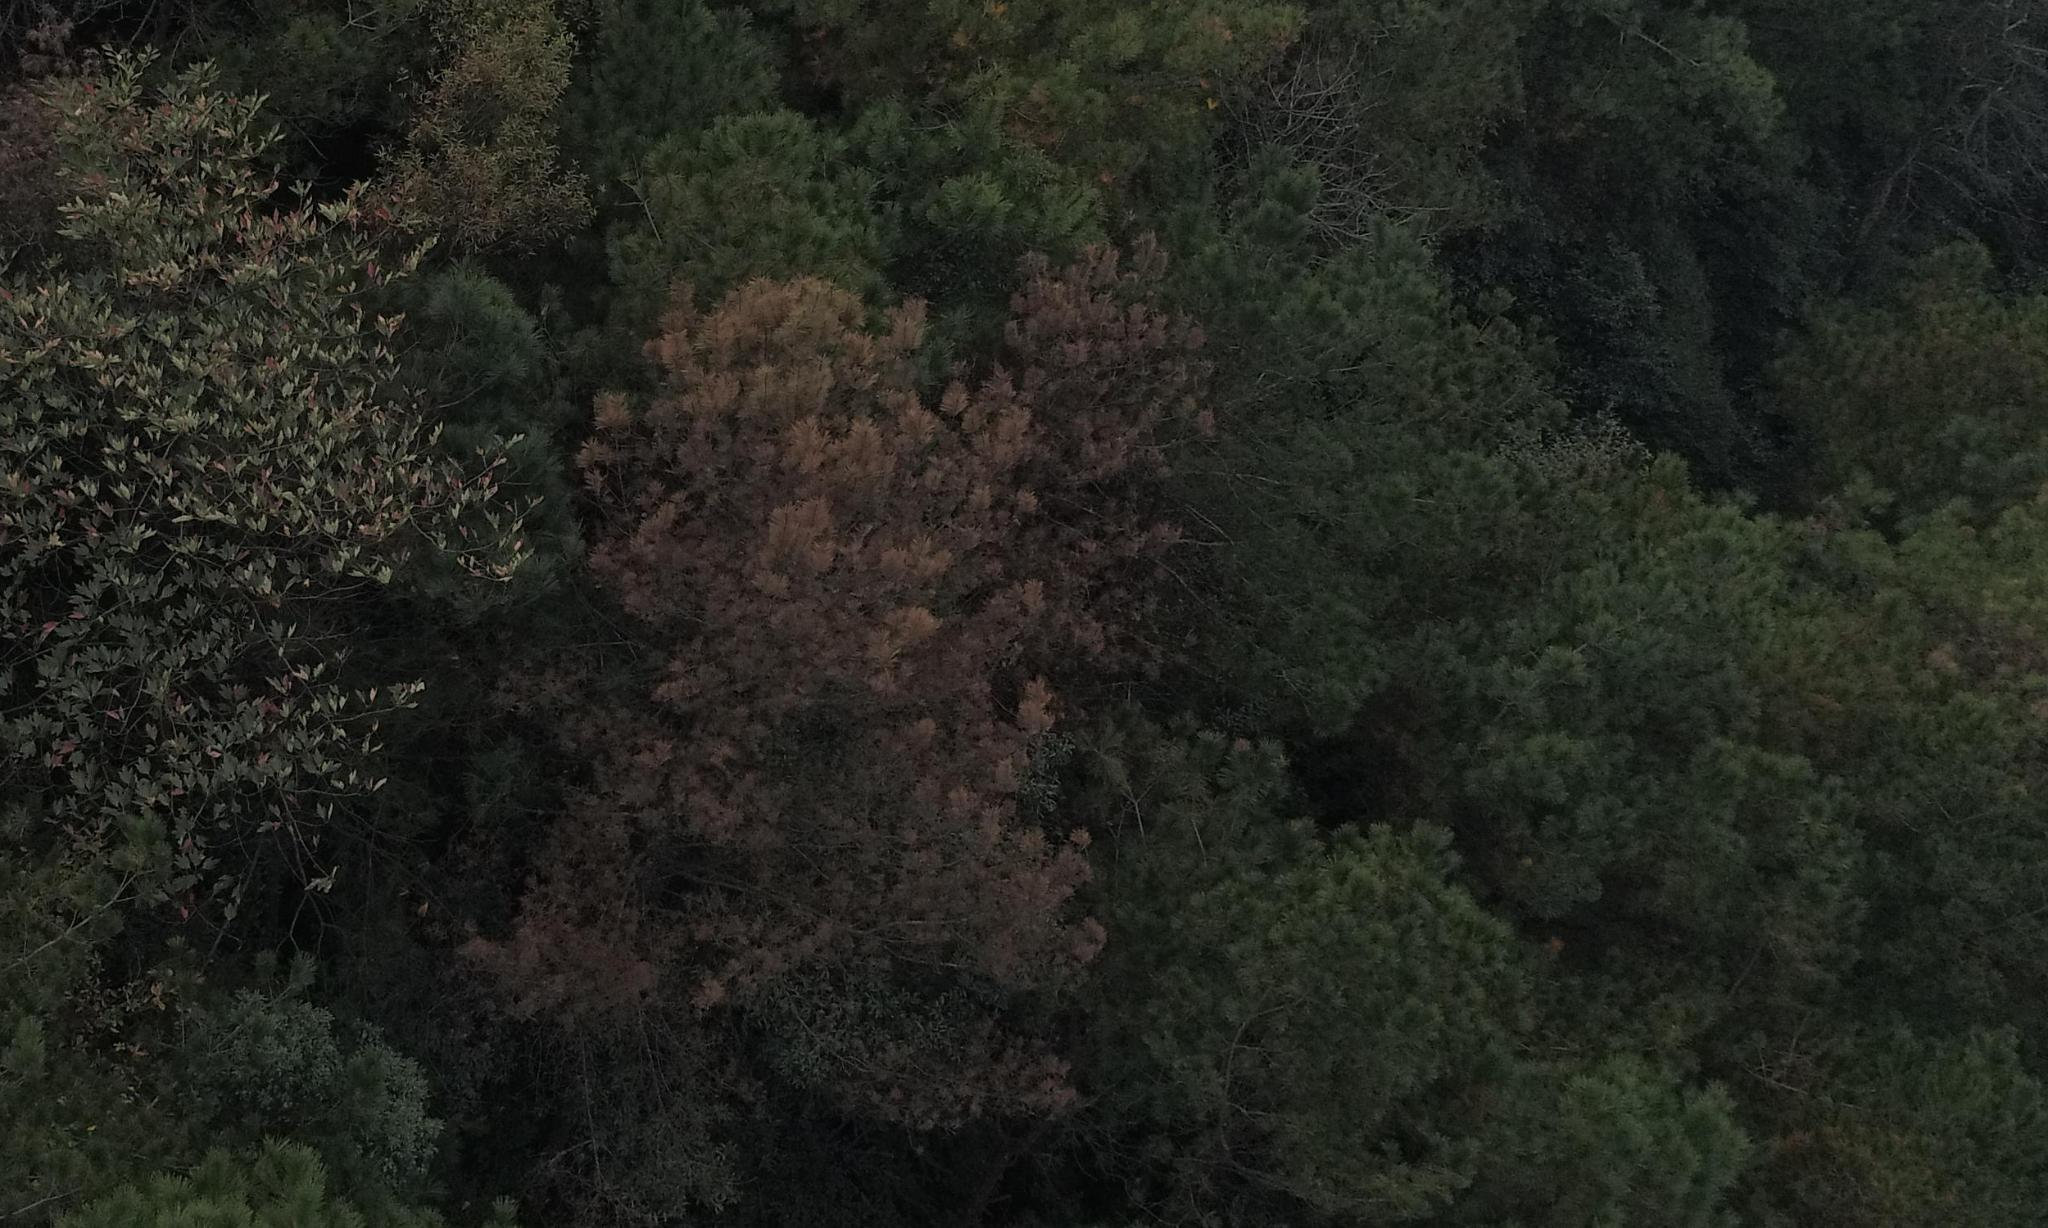heavy: (468, 259, 1213, 1050)
light: (918, 10, 1190, 192)
